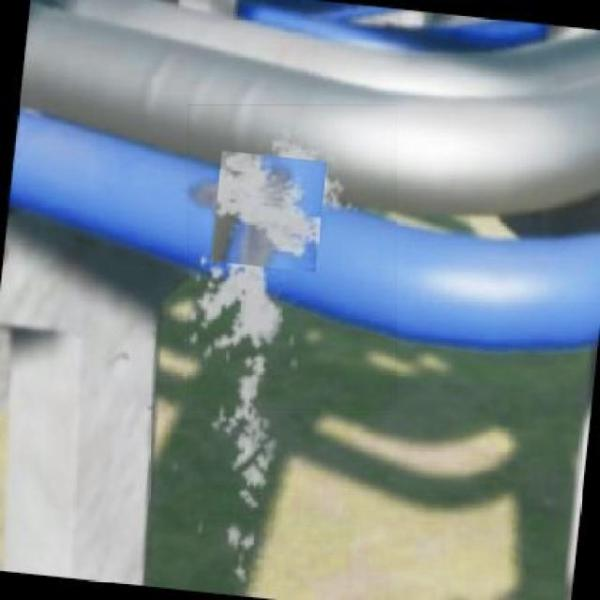gas: (188, 106, 396, 412)
